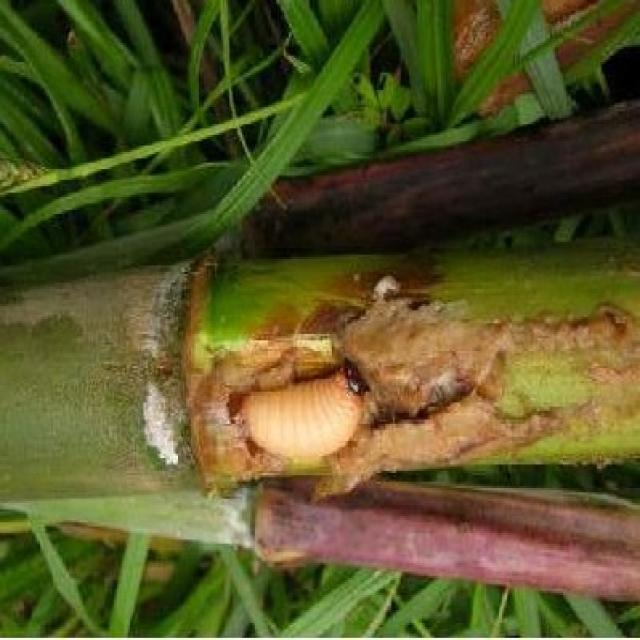grub: (215, 363, 368, 465)
